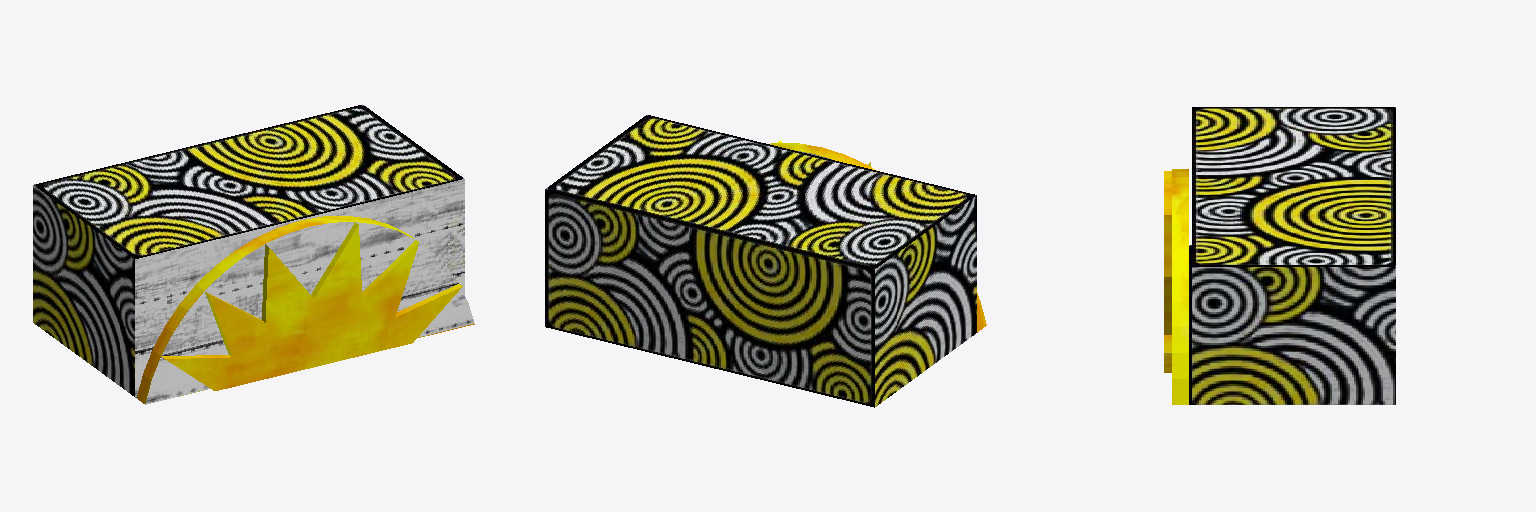
3 views of the same model, side by side, from view 1: azimuth 30°, elevation 25°; view 2: azimuth 150°, elevation 25°; view 3: azimuth 270°, elevation 25° (orthographic).
Parts seen in each view (by area): view 1: Mesh1 Model; view 2: Mesh1 Model; view 3: Mesh1 Model.
Part boxes in pixels (x1,y1,x2,y2): Mesh1 Model: (33,104,474,404); Mesh1 Model: (545,115,986,407); Mesh1 Model: (1164,107,1395,404).
Bounding box in the file's own units: 2.5 × 1 × 1.52.
1 materials, 1 textured.